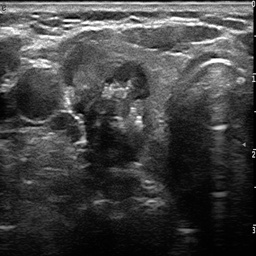mass: (64, 45, 149, 164)
